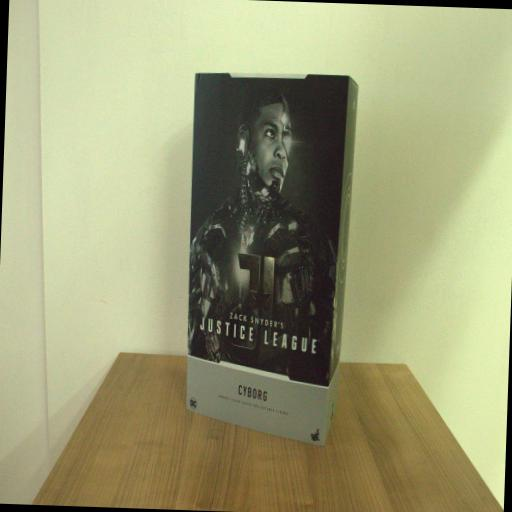Cyborg: (182, 68, 360, 448)
